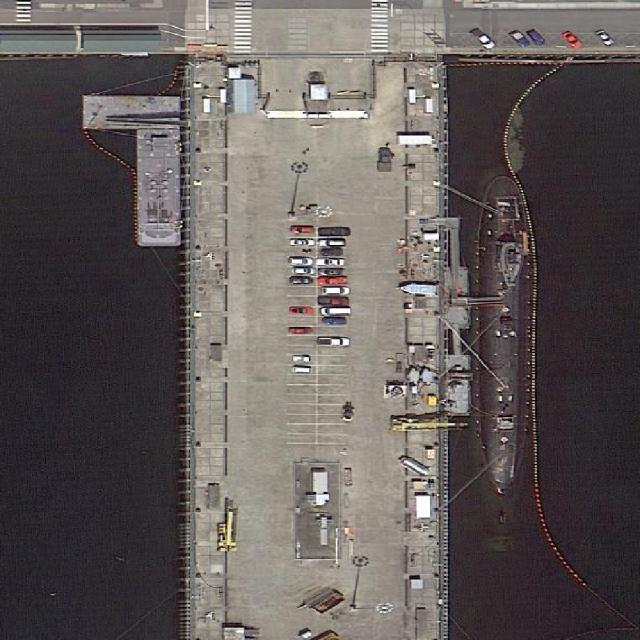Submarine: (480, 171, 526, 496)
